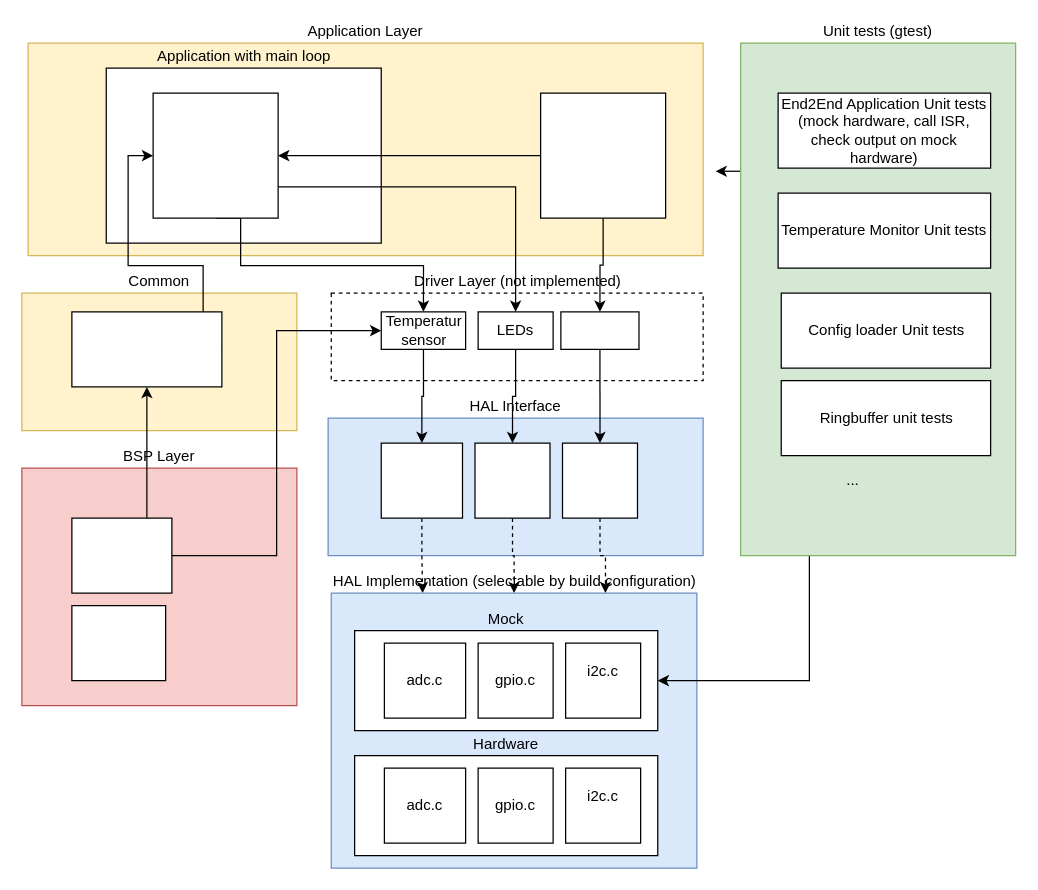
Some shapes in this 1038 by 890 pixel diagram are drawn without their labels. Here are the shapes that lost their labels. From the top down, the centre of each, then its label:
At point 215,155: "Temperature Monitor".
At point 602,155: "Config loader".
At point 146,349: "Ringbuffer".
At point 599,330: "EEPROM".
At point 421,480: "adc.h".
At point 512,480: "gpio.h".
At point 599,480: "i2c.h".
At point 121,555: "ADC ISR".
At point 118,642: "hardware pins etc.".
